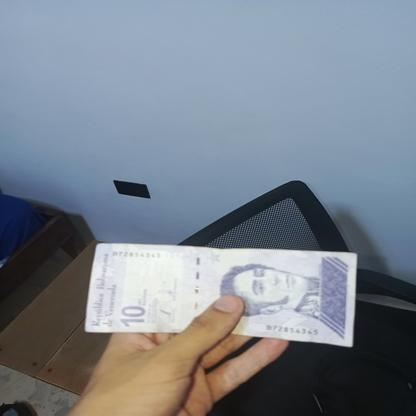ten-front-vef: (84, 242, 357, 346)
